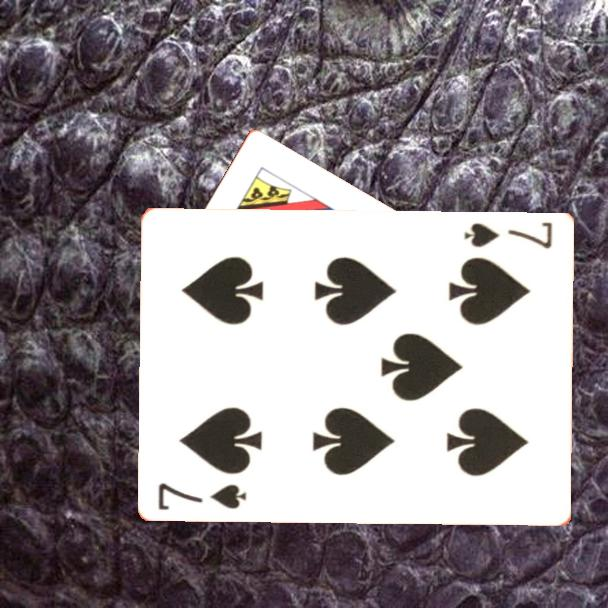s07: (461, 218, 556, 252), (155, 478, 249, 512)
